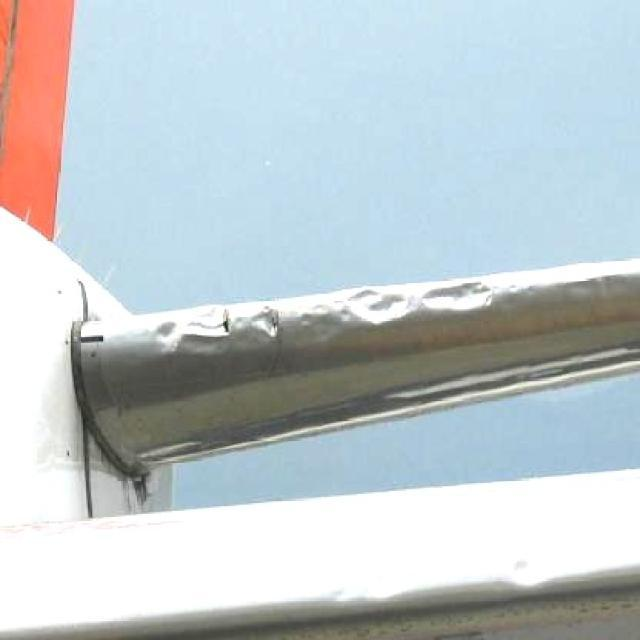dent: (344, 289, 418, 328), (421, 281, 497, 315), (187, 307, 232, 344), (504, 555, 544, 594), (247, 304, 284, 340), (149, 324, 183, 353)
